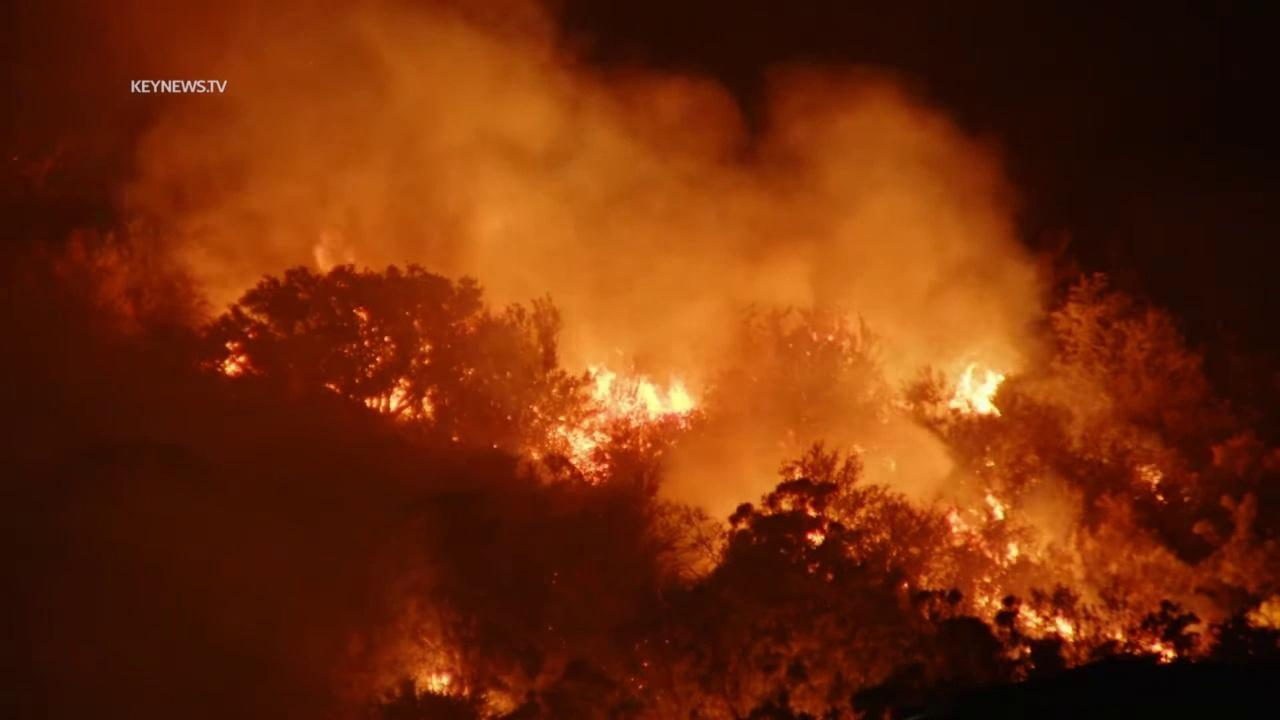fire: (524, 363, 696, 489), (320, 303, 438, 424), (970, 571, 1077, 644), (944, 360, 1010, 417), (1111, 630, 1179, 664), (969, 526, 1021, 569), (217, 339, 252, 378), (423, 671, 457, 697), (1137, 463, 1165, 492), (985, 492, 1012, 522), (804, 527, 828, 551), (947, 511, 968, 538), (1154, 493, 1167, 503)
smoke: (0, 0, 1280, 720)
